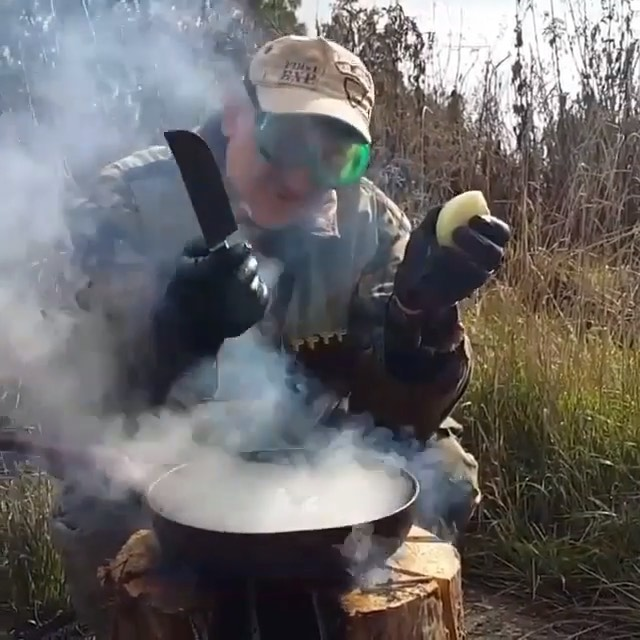knife: (165, 130, 238, 255)
